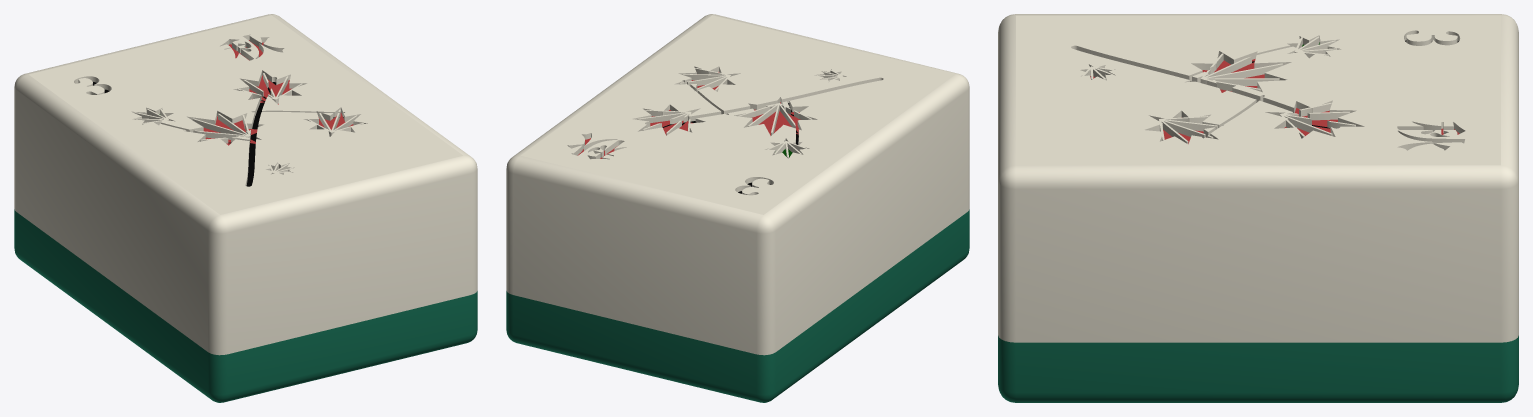
Rendered from Season3_Autumn.glb.
The picture shows the model from 3 angles, left to right: view 1: azimuth 30°, elevation 25°; view 2: azimuth 150°, elevation 25°; view 3: azimuth 270°, elevation 25°; orthographic projection. The views are drawn at different scales.
Visible parts, largest first — view 1: Season3_Autumn_body, Season3_Autumn_inset; view 2: Season3_Autumn_body, Season3_Autumn_inset; view 3: Season3_Autumn_body, Season3_Autumn_inset.
Part boxes in pixels (bbox=[...]): Season3_Autumn_body: bbox=[14, 14, 477, 402]; Season3_Autumn_inset: bbox=[93, 40, 353, 186]; Season3_Autumn_body: bbox=[506, 14, 969, 402]; Season3_Autumn_inset: bbox=[577, 72, 800, 193]; Season3_Autumn_body: bbox=[998, 14, 1518, 402]; Season3_Autumn_inset: bbox=[1090, 40, 1459, 143].
Size of the model in its own units: 0.024 by 0.016 by 0.032.
